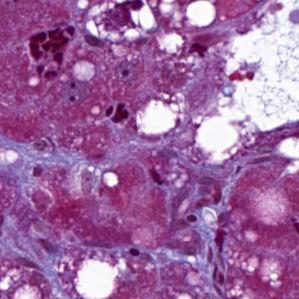ballooning: (133, 93, 185, 140)
